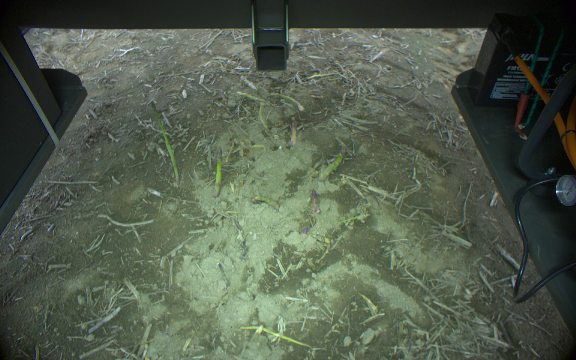aspa: (149, 100, 179, 188), (317, 145, 347, 181), (249, 193, 282, 211), (213, 146, 223, 201), (307, 188, 321, 216), (289, 116, 299, 150)
